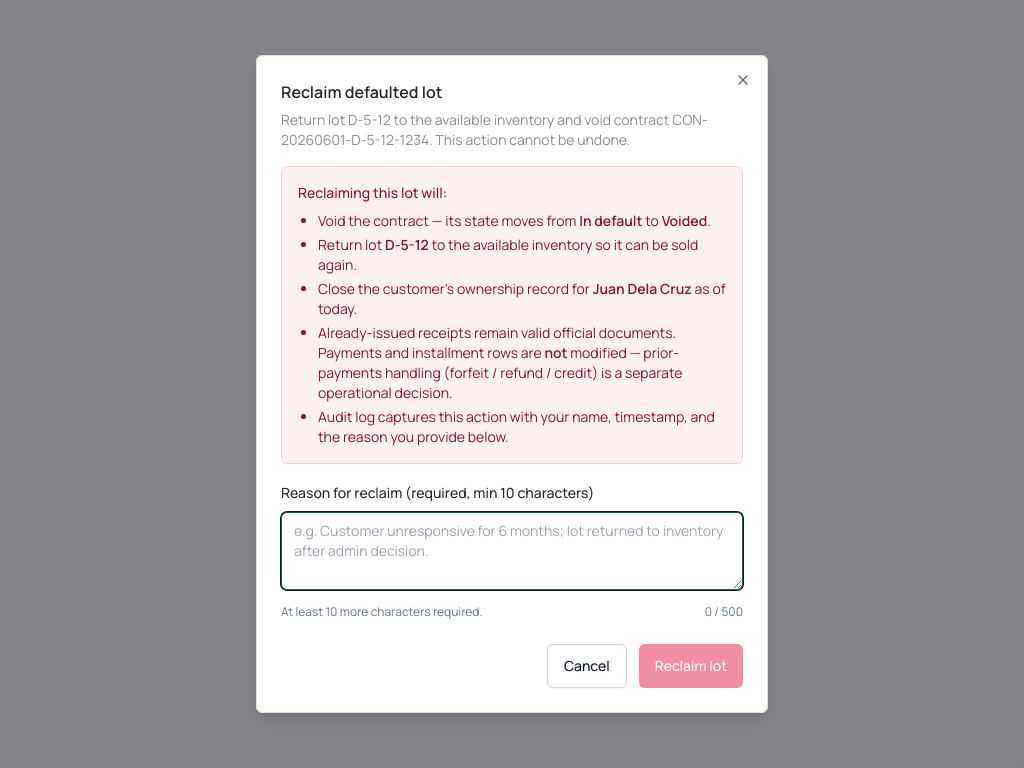
Test: ReclaimLotDialog › updates the character counter as the user types
Step 1. Type "Hello world" into the text box with test id "reclaim-lot-reason" → (512, 551), box [281,512,743,590]
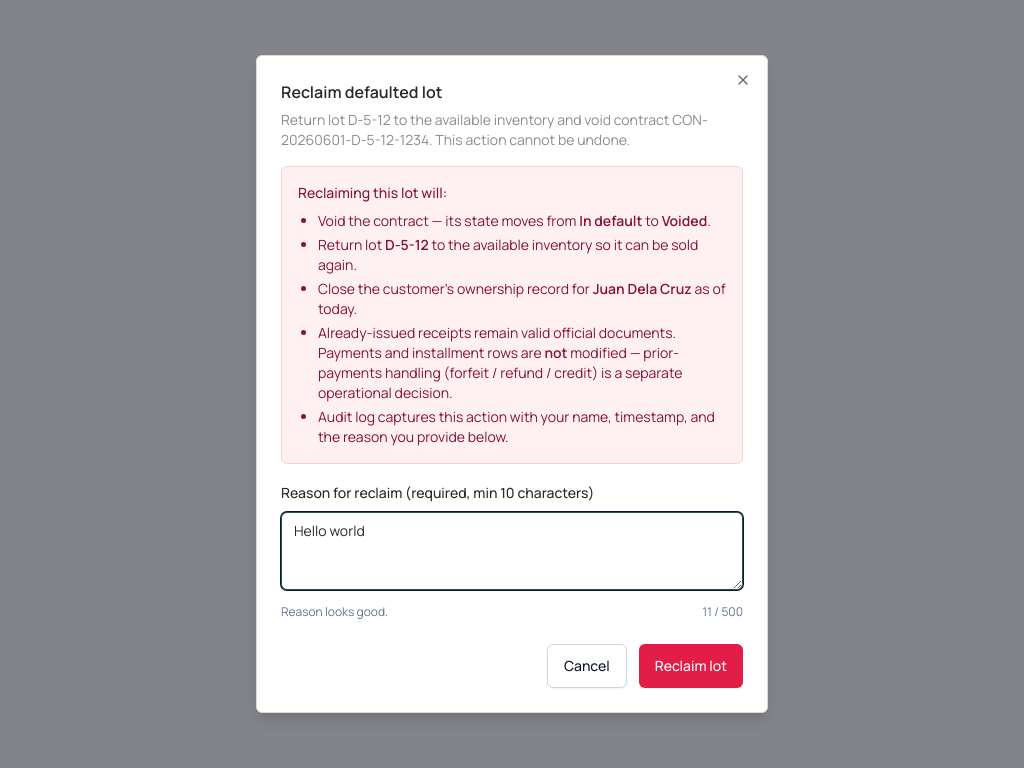
Expected: the element with test id "reclaim-lot-reason-counter" shows "11 / 500", [281,604,743,620]
